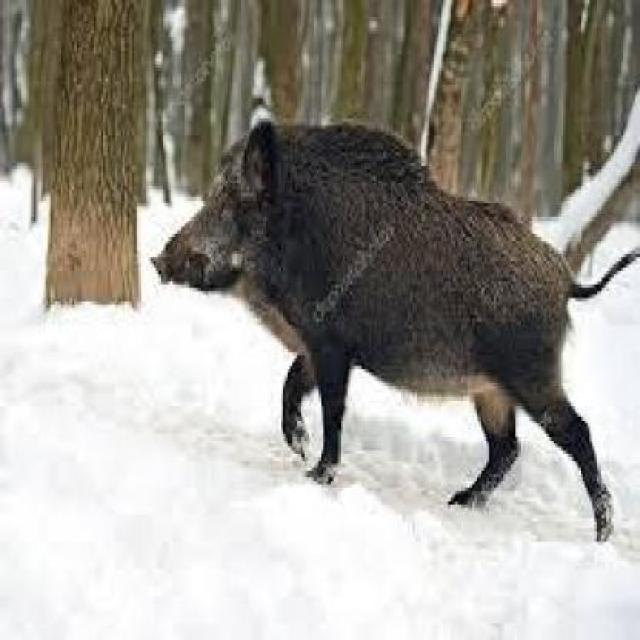wildboar: (147, 113, 640, 541)
